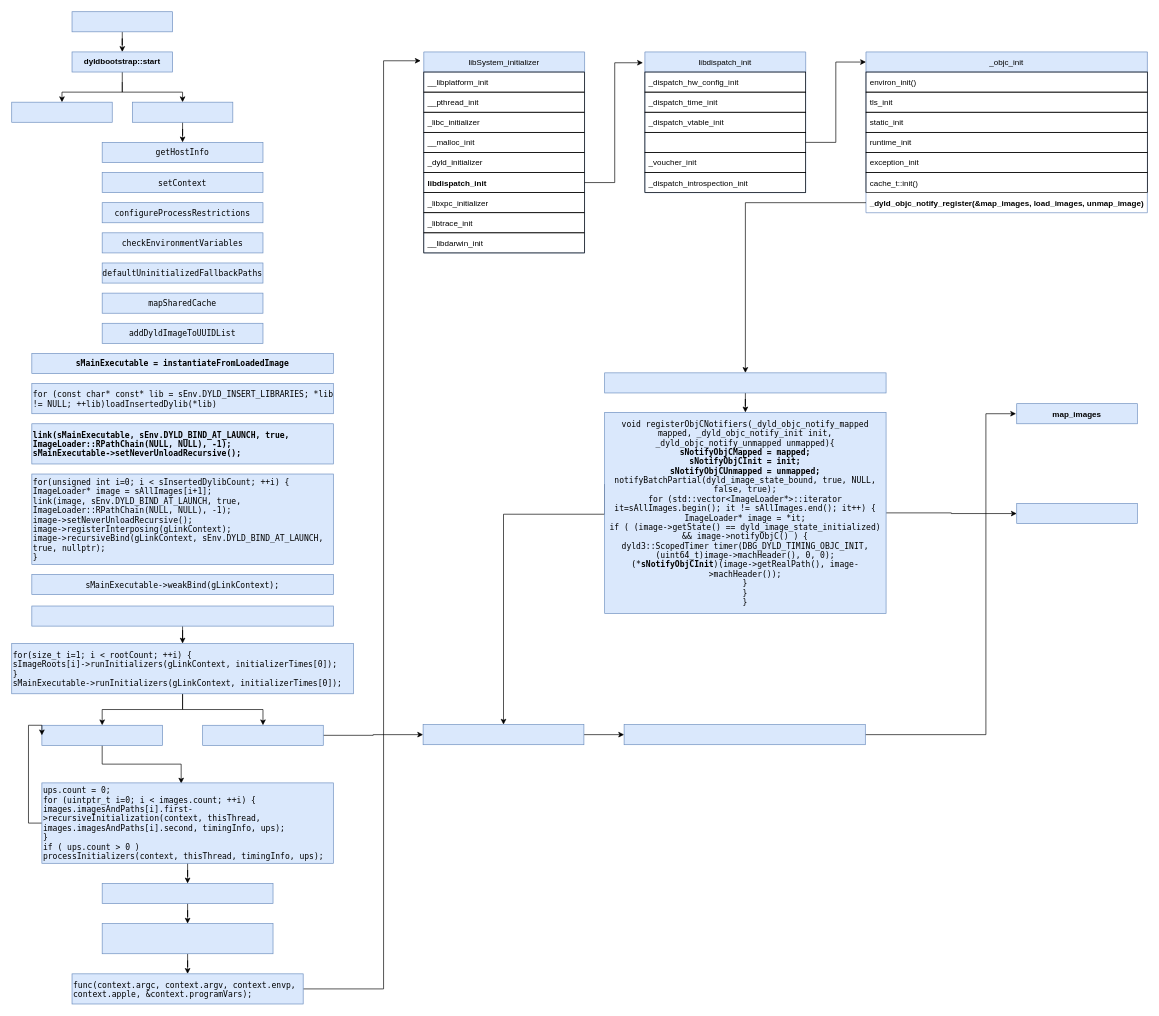
This 1159x1016 diagram has some shape labels left out. Each missing label, with the centre of its shape:
"_os_object_init ==> _objc_init" goes at point (725, 142).
"context. notifyBatch" goes at point (262, 735).
"doImageInit (context) doModInitFunctions (context)" goes at point (187, 938).
"dyld :: _main" goes at point (182, 112).
"dyld :: registerObjCNotifiers (mapped, init, unmapped);" goes at point (745, 382).
"dyld_start" goes at point (122, 21).
"initializeMainExecutable" goes at point (182, 615).
"load_images" goes at point (1076, 513).
"notifyBatchPartial" goes at point (503, 734).
"processInitializers" goes at point (101, 735).
"rebaseDyld" goes at point (61, 112).
"sNotifyObjCMapped" goes at point (744, 734).
"this -> doInitialization (context);" goes at point (187, 893).
